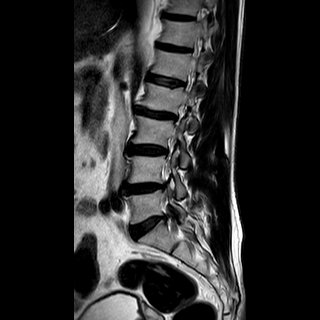RFS0: (166, 98, 191, 130)
